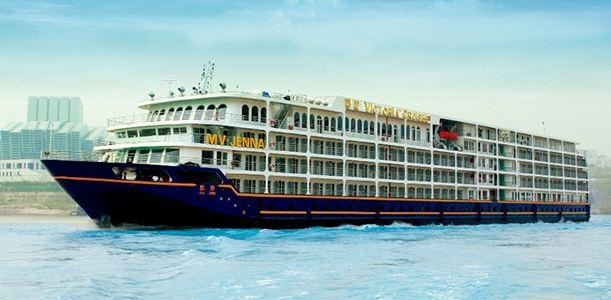youlun: (37, 73, 600, 237)
